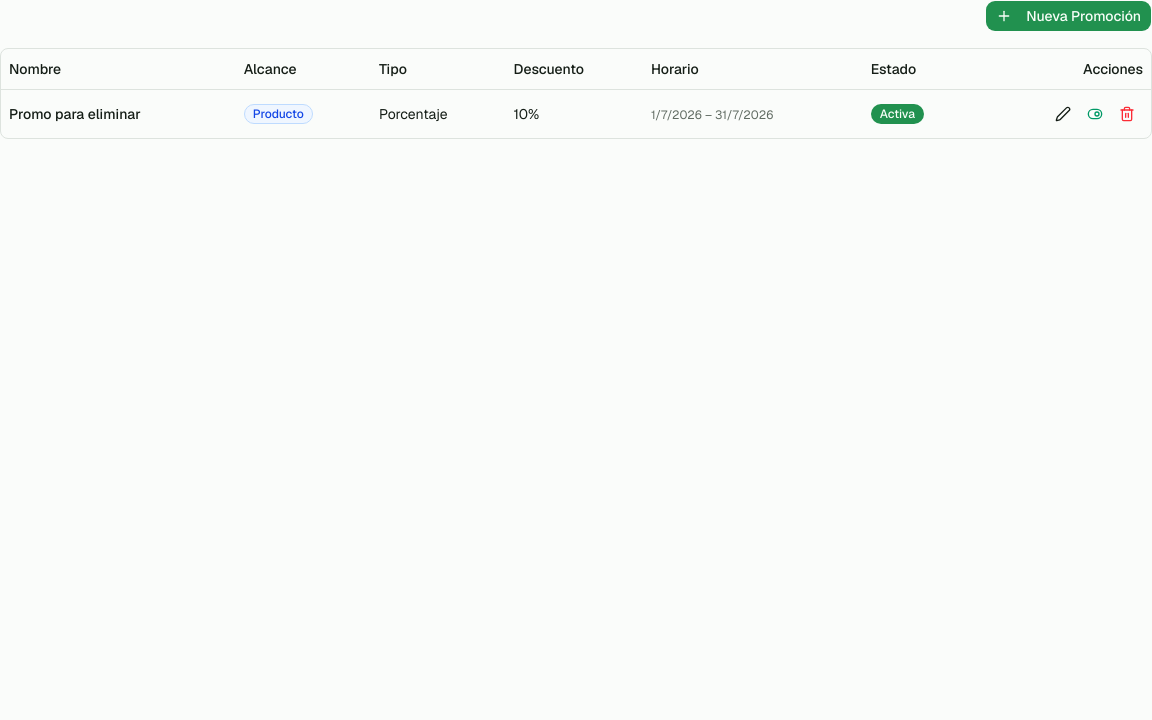
PromotionsShell › deletes a promotion when the delete action is confirmed via the Trash button
Check: the text "Promo para eliminar" is shown, box [1,89,236,138]
// The delete button is the red Trash2 button with aria-label "Eliminar"
Click the 3rd button named "Eliminar" at (1127, 114), box [1111,98,1143,130]
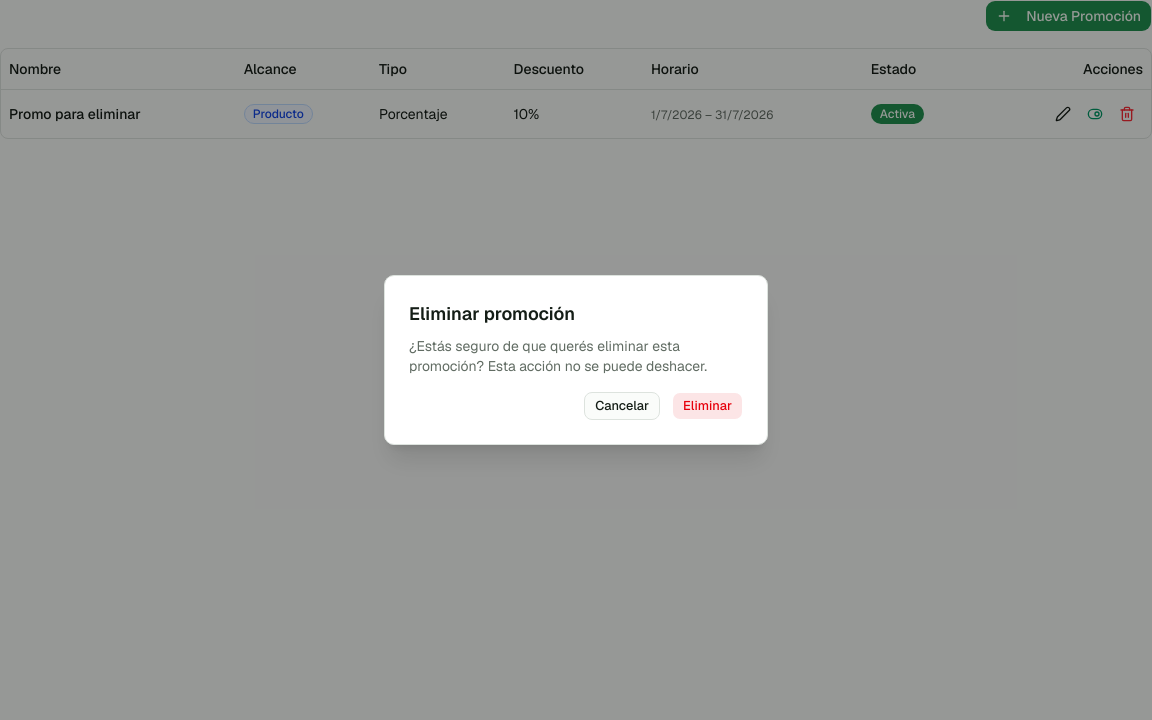
// Confirm in the custom dialog
Click the button "Eliminar" at (708, 406), box [672,392,743,420]
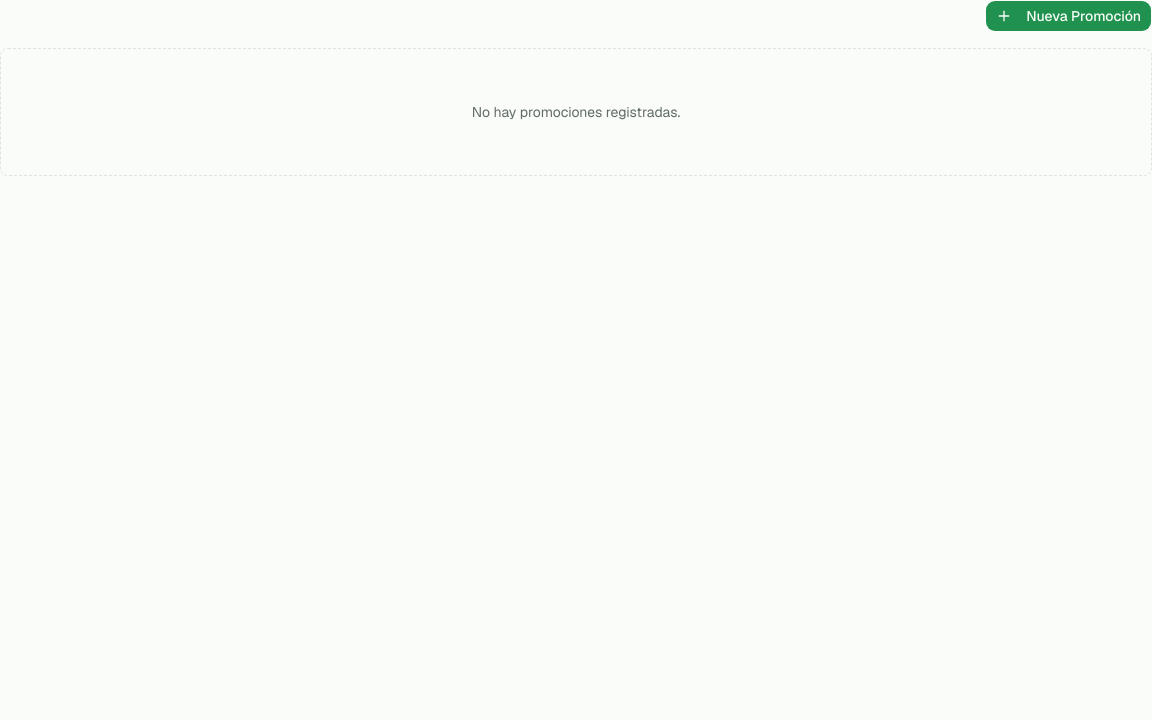
Check: the text "Promo para eliminar" is gone
